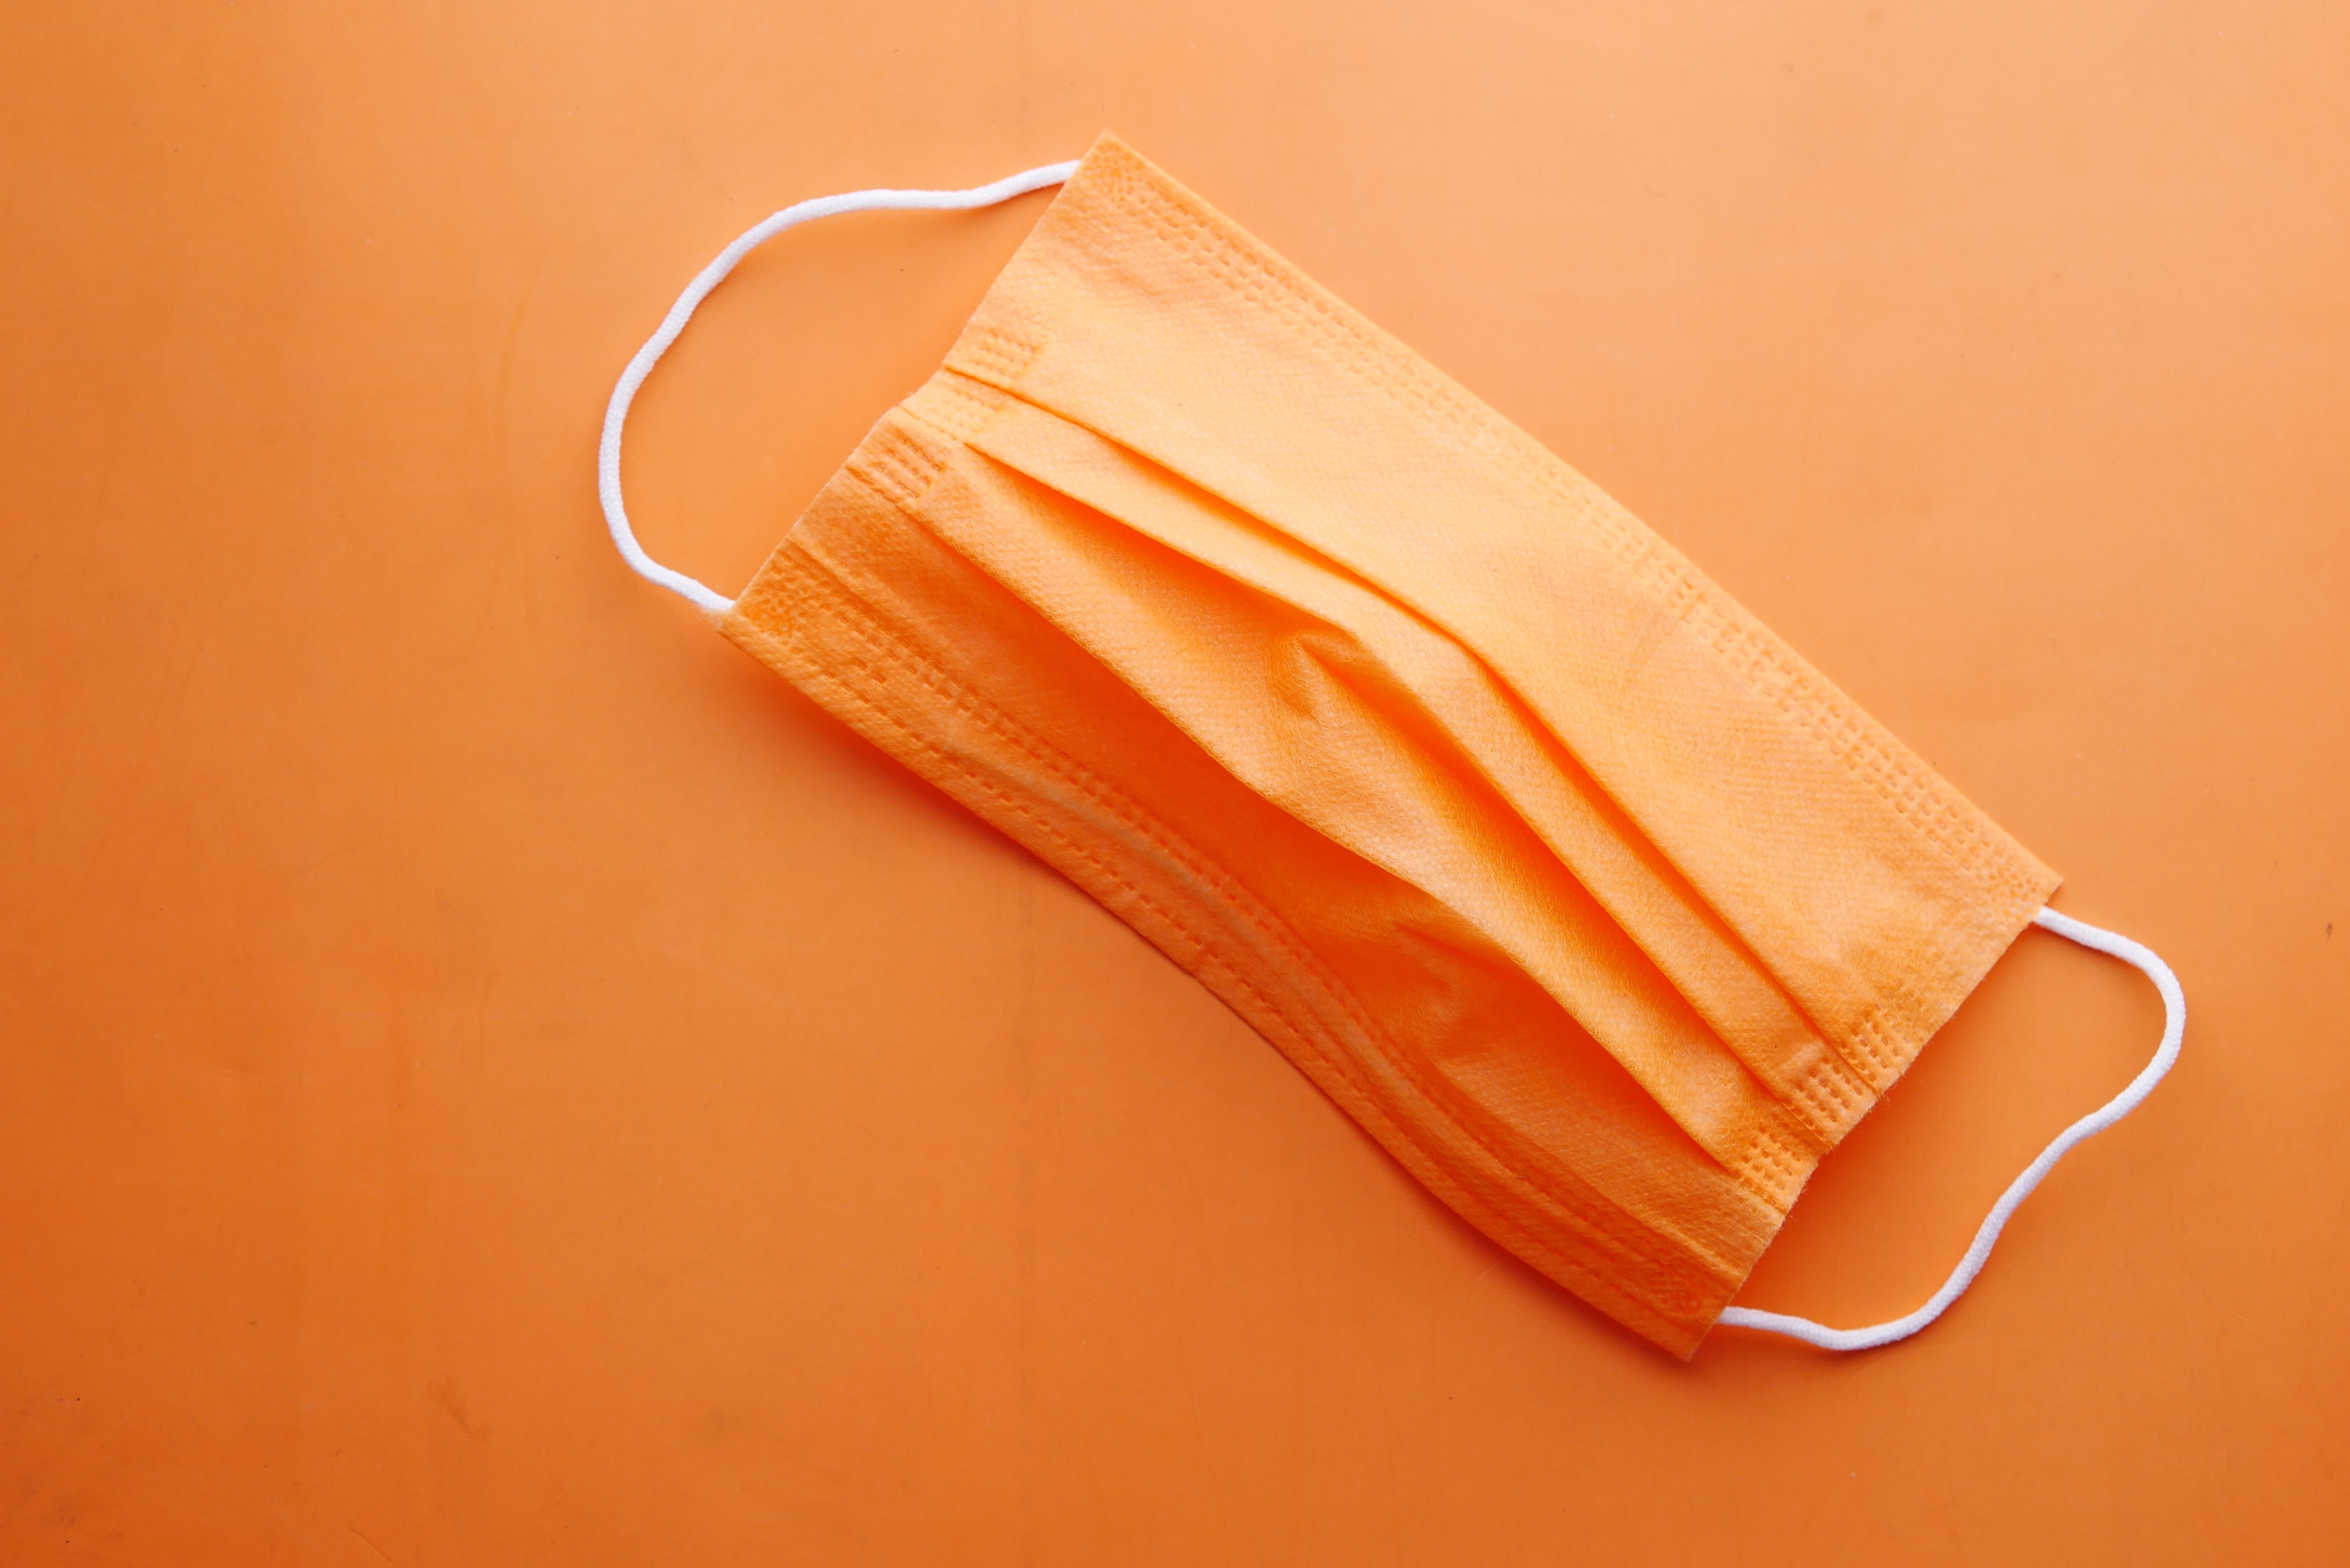mask: (570, 124, 2207, 1377)
